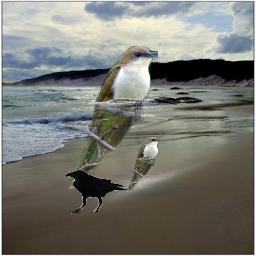Crow: (64, 170, 130, 214)
Cuckoo: (68, 44, 158, 189), (126, 136, 160, 192)
